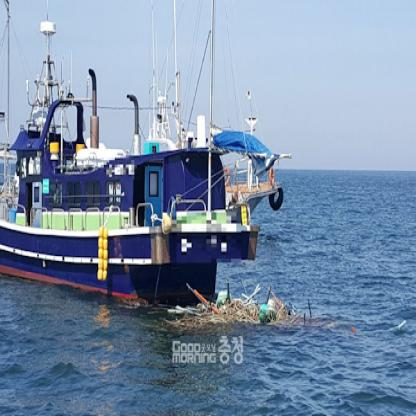fish-b: (0, 13, 262, 312)
